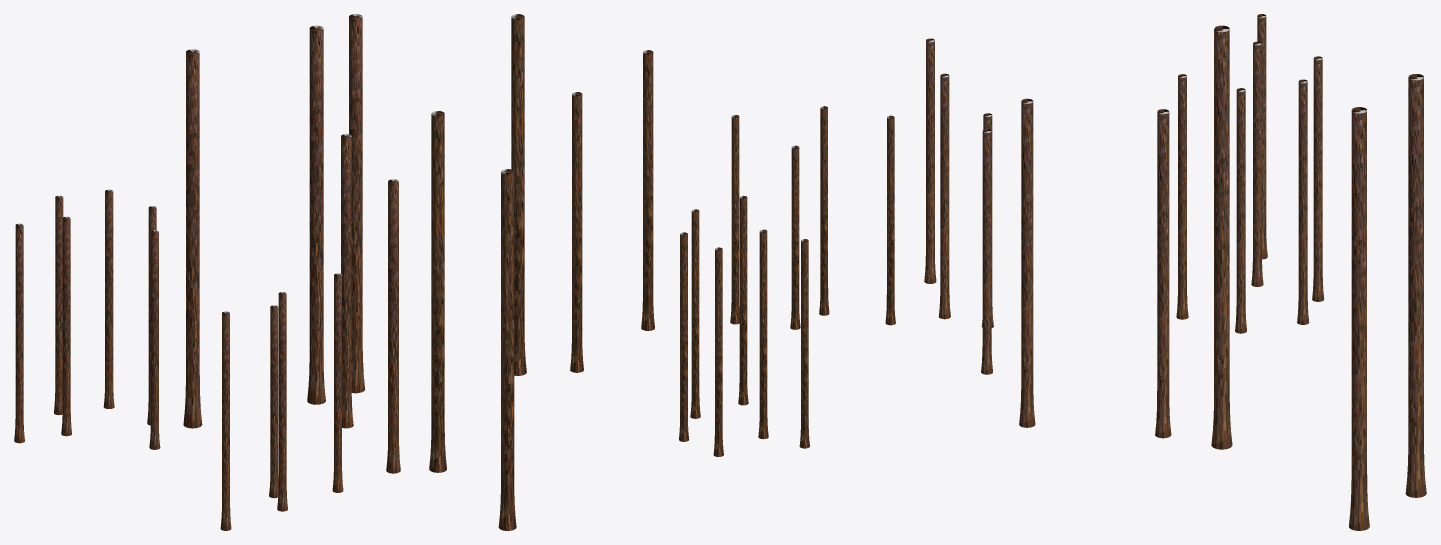
File: TreesReplacement.glb
3 views of the same model, side by side, from view 1: azimuth 30°, elevation 25°; view 2: azimuth 150°, elevation 25°; view 3: azimuth 270°, elevation 25° (orthographic). The views are drawn at different scales.
Parts seen in each view (by area): view 1: TallTrees; view 2: TallTrees; view 3: TallTrees.
Part boxes in pixels (<box>): TallTrees: <box>14,14,400,530</box>; TallTrees: <box>429,14,895,530</box>; TallTrees: <box>924,14,1426,530</box>.
Bounding box in the file's own units: 28.47 × 34.84 × 31.35.
1 material, 1 textured.
